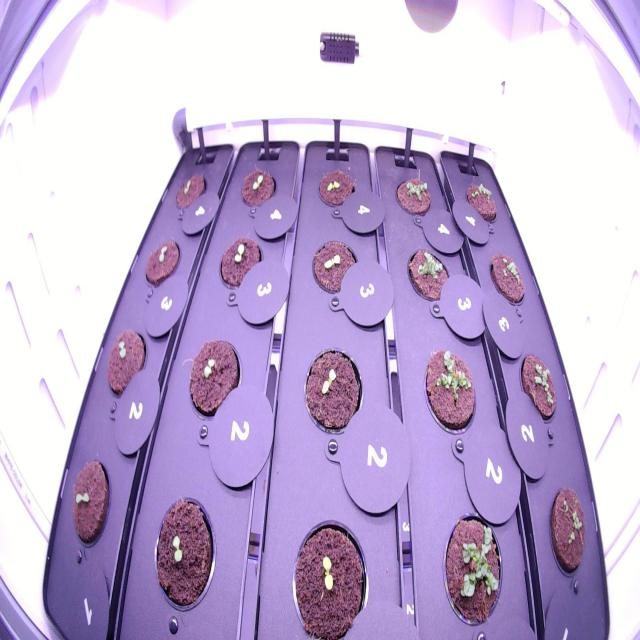germination: (287, 510, 371, 639), (147, 490, 220, 616), (438, 503, 506, 631), (298, 338, 366, 442), (420, 341, 480, 443), (185, 331, 244, 421), (545, 480, 591, 584), (66, 453, 114, 552), (307, 231, 362, 303), (517, 346, 560, 433), (102, 322, 148, 403), (403, 240, 456, 310), (214, 231, 266, 298), (486, 245, 528, 313), (314, 161, 358, 220), (140, 233, 183, 290), (237, 160, 280, 216), (394, 167, 435, 224), (171, 164, 210, 216), (463, 176, 500, 227)
